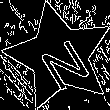N_NW: (28, 24, 91, 89)
